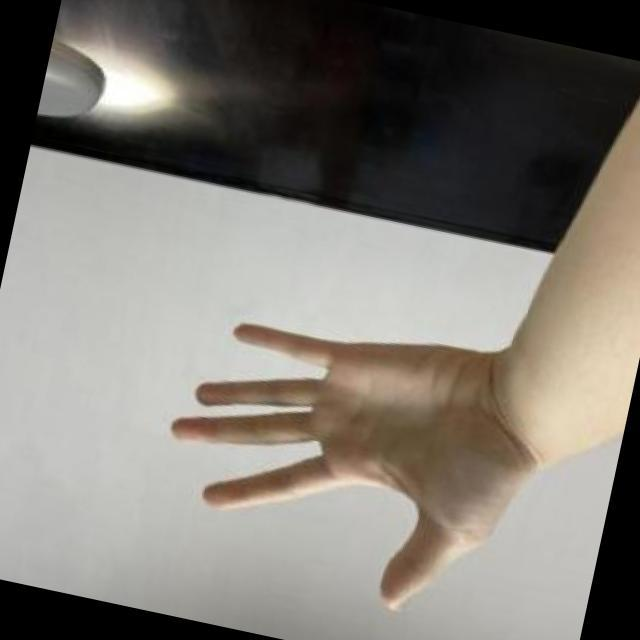without_gloves: (121, 273, 577, 640)
